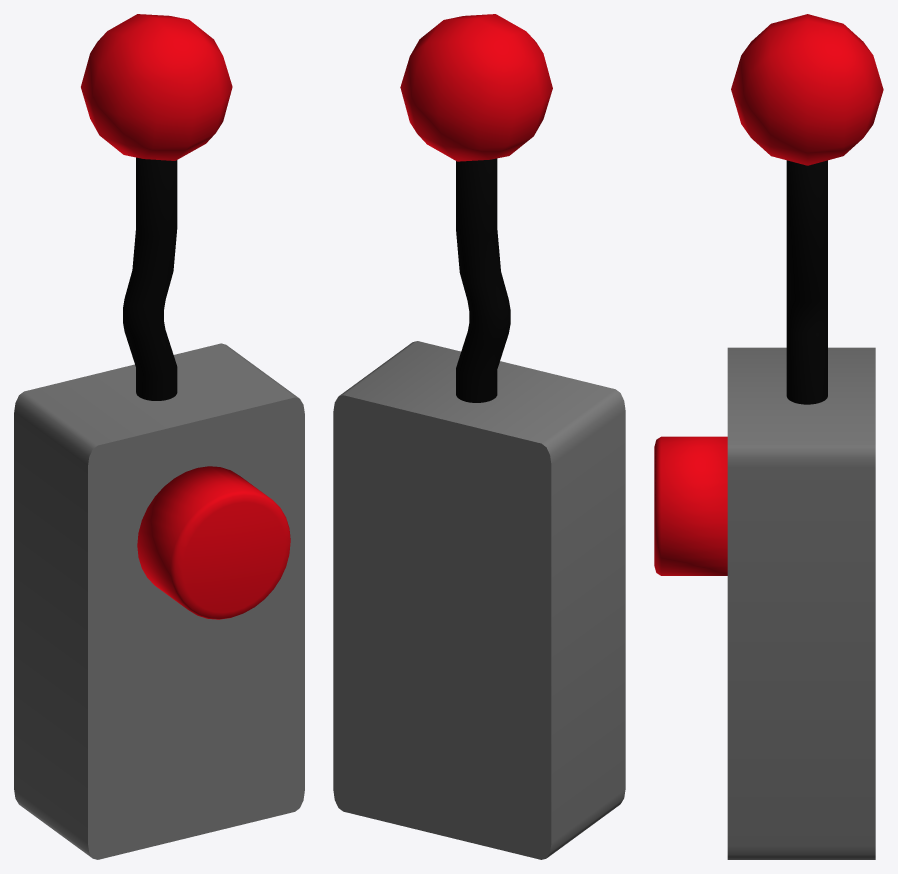
Rendered from remote.glb.
The picture shows the model from 3 angles, left to right: view 1: azimuth 30°, elevation 25°; view 2: azimuth 150°, elevation 25°; view 3: azimuth 270°, elevation 25°; orthographic projection.
Parts seen in each view (by area): view 1: Cube; view 2: Cube; view 3: Cube.
Part boxes in pixels (x1,y1,x2,y2): Cube: (14, 14, 304, 859); Cube: (333, 14, 625, 859); Cube: (654, 14, 883, 859).
Size of the model in its own units: 2 by 6.94 by 1.82.
